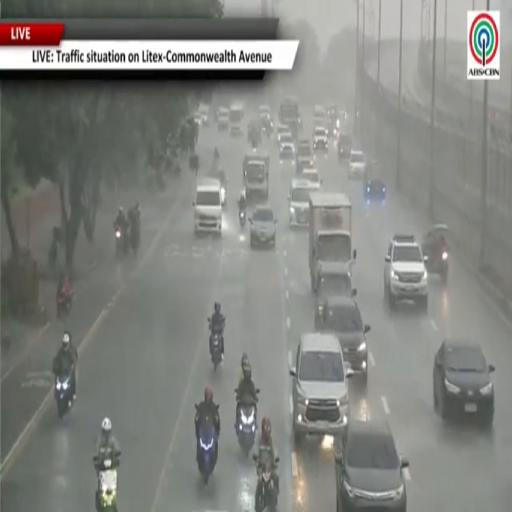car: (290, 333, 353, 442), (335, 419, 408, 511), (433, 339, 494, 424), (316, 293, 370, 385), (384, 235, 428, 311), (314, 262, 356, 312), (422, 223, 449, 284), (193, 179, 221, 235), (288, 179, 315, 227), (249, 206, 276, 248), (297, 139, 313, 174), (212, 169, 227, 205), (364, 179, 386, 203), (348, 150, 366, 179), (326, 104, 341, 137), (279, 133, 295, 162), (259, 105, 273, 135), (337, 133, 352, 161), (313, 126, 328, 153), (301, 168, 321, 188), (276, 124, 290, 145), (217, 107, 229, 131), (313, 105, 326, 126), (198, 104, 209, 125)
motorcycle: (93, 452, 120, 511), (254, 454, 279, 511), (198, 422, 217, 485), (236, 400, 257, 456), (425, 247, 449, 284), (54, 372, 73, 418), (208, 318, 224, 372), (211, 331, 223, 372), (57, 292, 73, 318), (115, 227, 128, 258), (130, 224, 140, 254), (238, 209, 246, 228)
truck: (309, 191, 356, 292), (243, 149, 269, 199), (279, 98, 300, 139), (230, 103, 244, 137)
